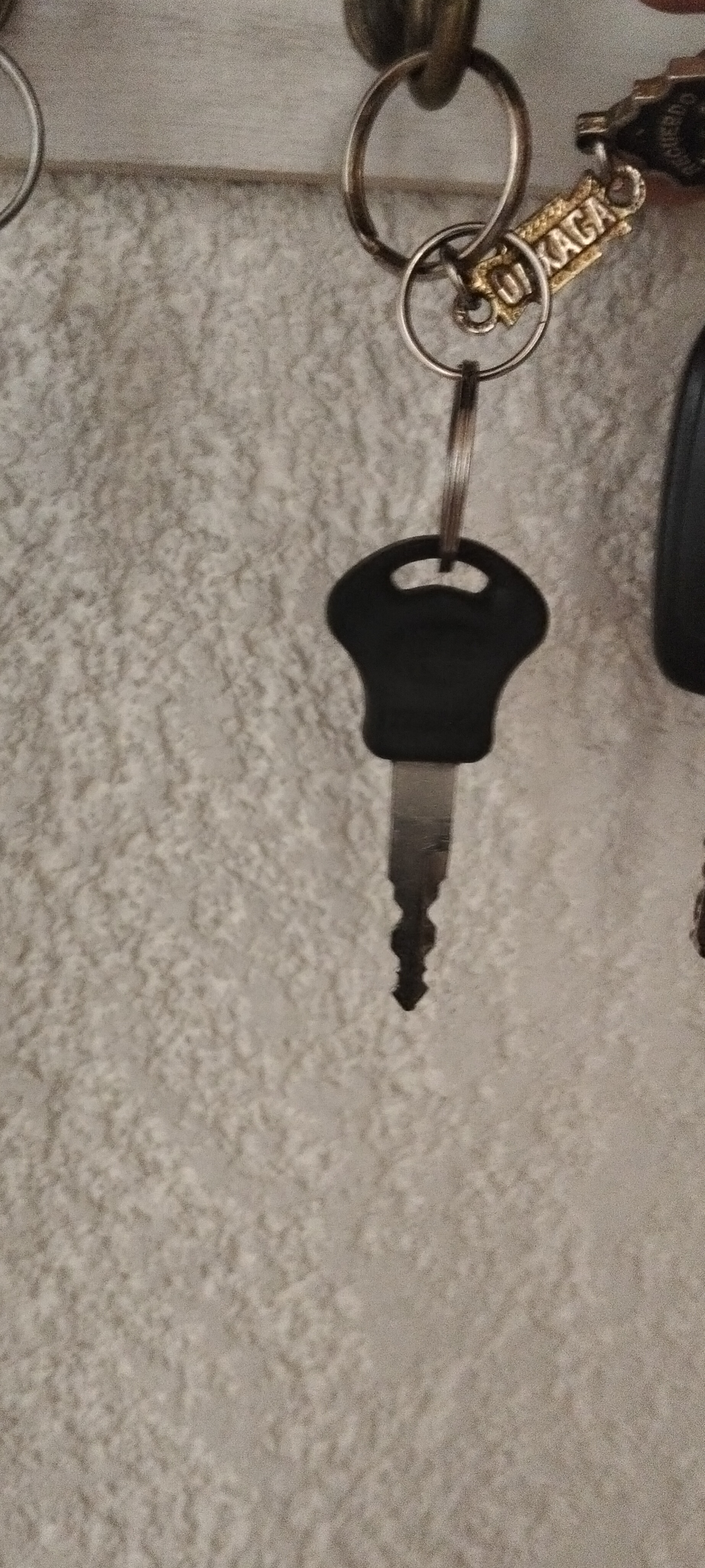llaves: (214, 40, 665, 1087)
